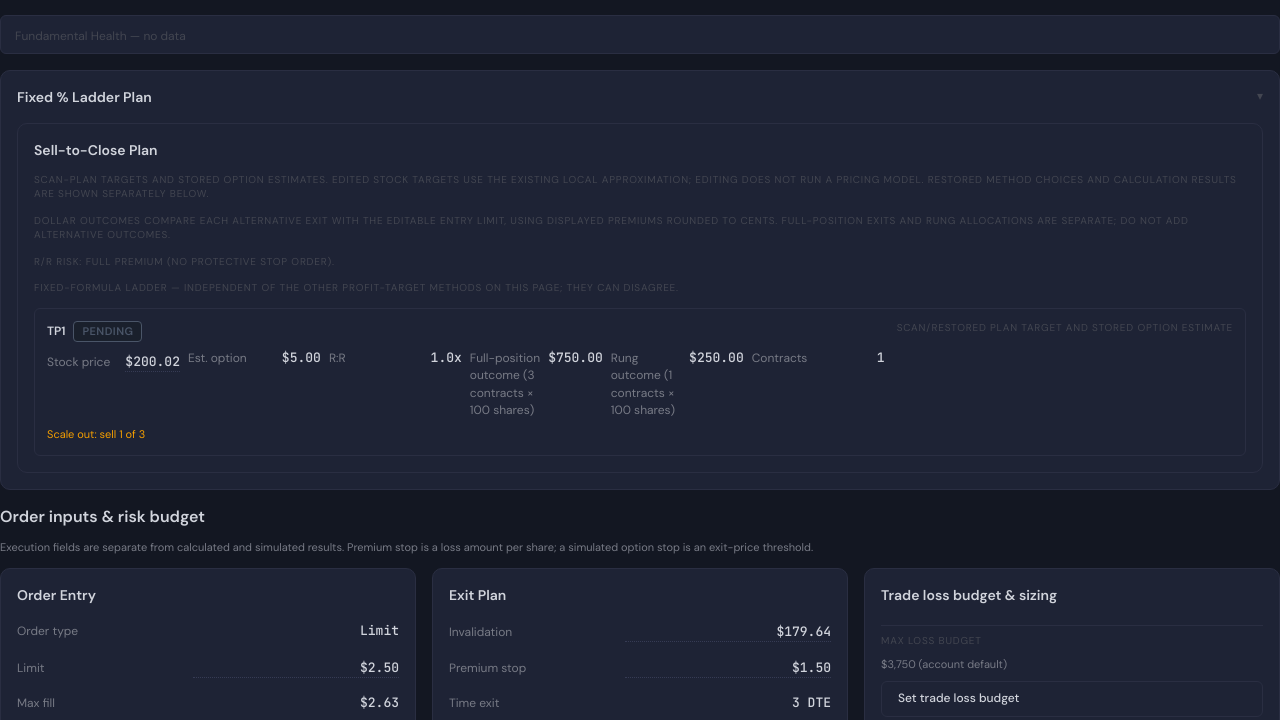
Test: TradeCard › keeps the same editable ladder state and local pricing approximation without running a model
(page scrolled)
Click the button named "Edit target stock price for TP1": (153, 361) x1=125 y1=350 x2=180 y2=372
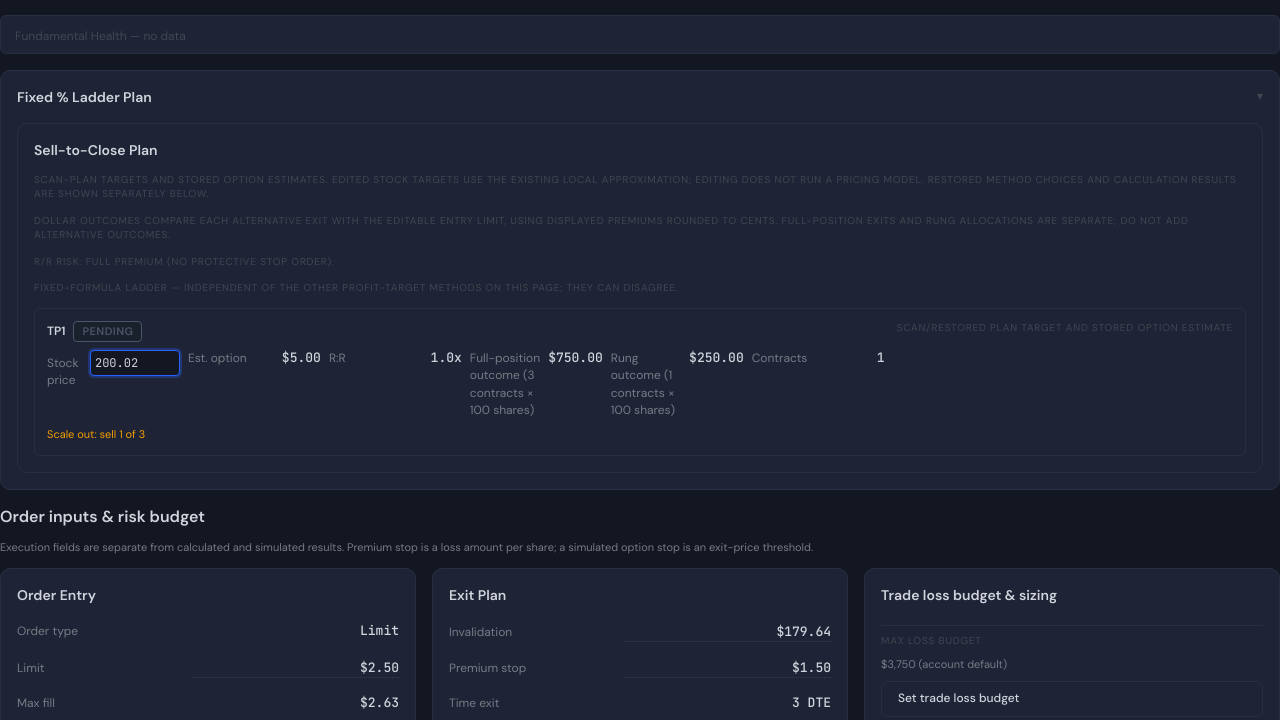
Replace the text in the number field named "Edit target stock price for TP1" with "201": (135, 363) x1=90 y1=350 x2=180 y2=376
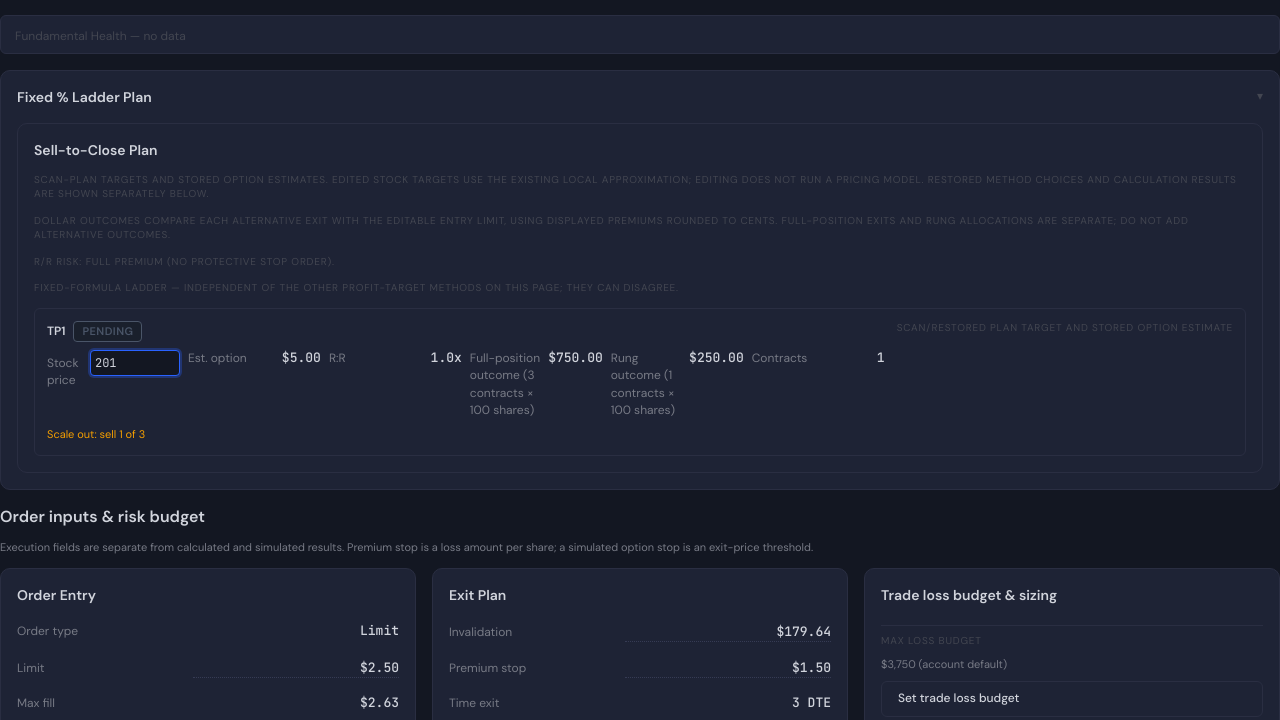
Press Enter in the number field named "Edit target stock price for TP1", box x1=90 y1=350 x2=180 y2=376
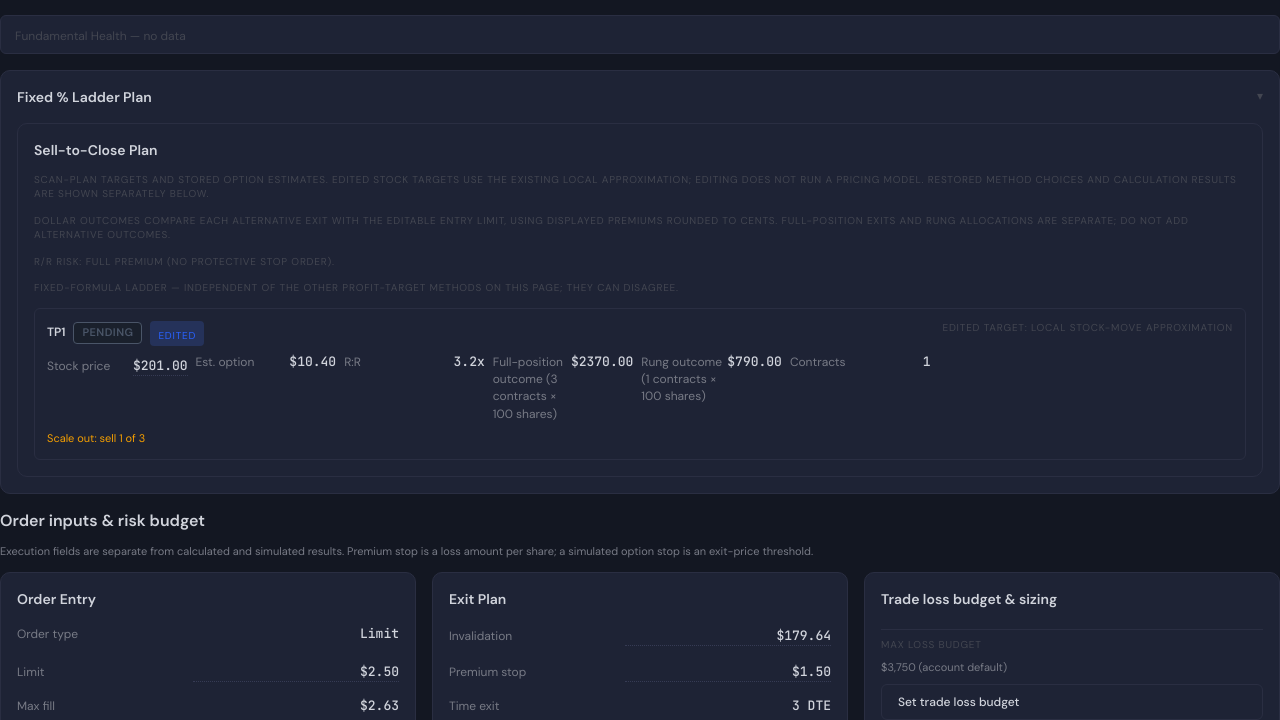
Result: the text "edited" is shown at x1=158 y1=328 x2=196 y2=342
